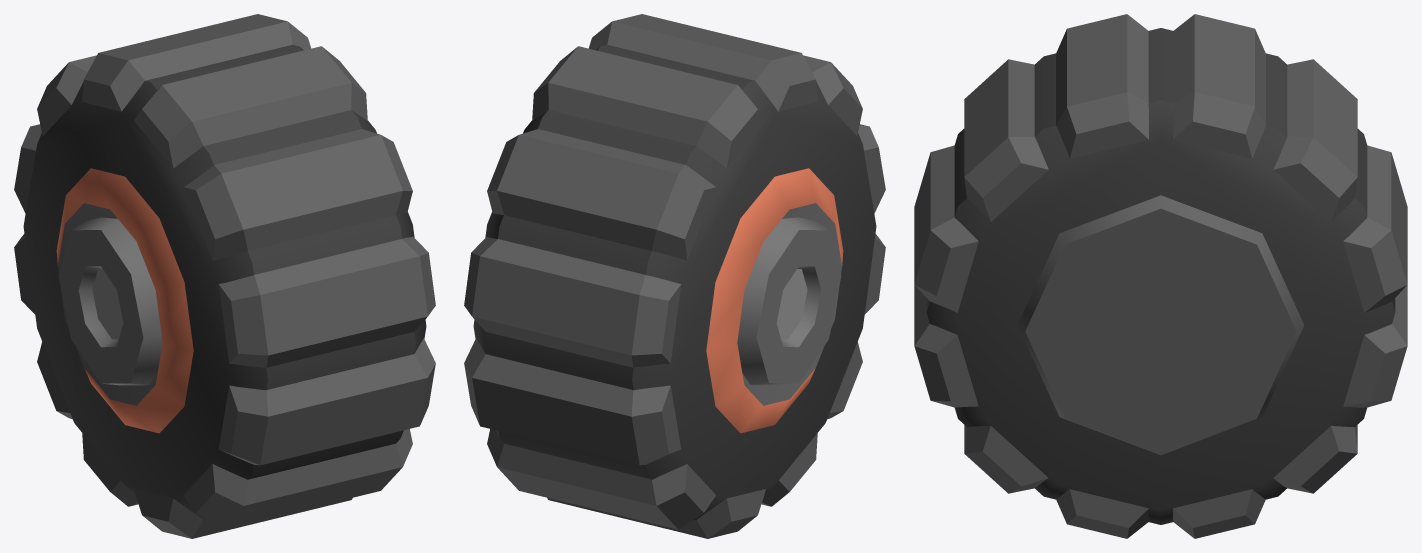
Rendered from Wheel_002.fbx.
The picture shows the model from 3 angles, left to right: view 1: azimuth 30°, elevation 25°; view 2: azimuth 150°, elevation 25°; view 3: azimuth 270°, elevation 25°; orthographic projection.
Visible parts, largest first — view 1: Wheel_002; view 2: Wheel_002; view 3: Wheel_002.
Part boxes in pixels (box(x1,y1,x2,y2)): Wheel_002: box(14, 14, 435, 538); Wheel_002: box(464, 14, 885, 538); Wheel_002: box(914, 14, 1407, 538).
Bounding box in the file's own units: 87.64 × 158 × 158.
